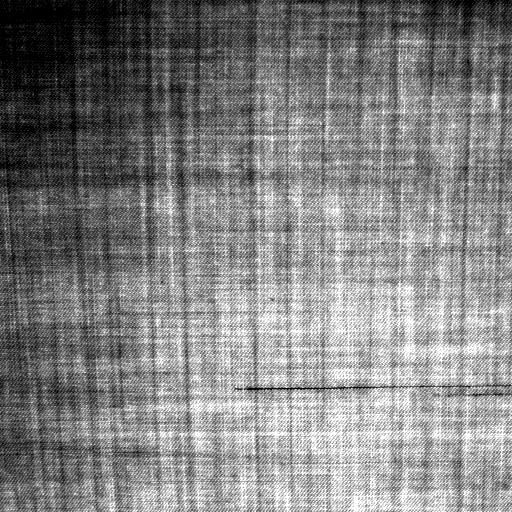fabric_thick_weft: (228, 384, 512, 392), (432, 391, 512, 399)
